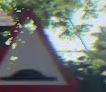Speed Breaker ahead: (0, 2, 78, 91)
